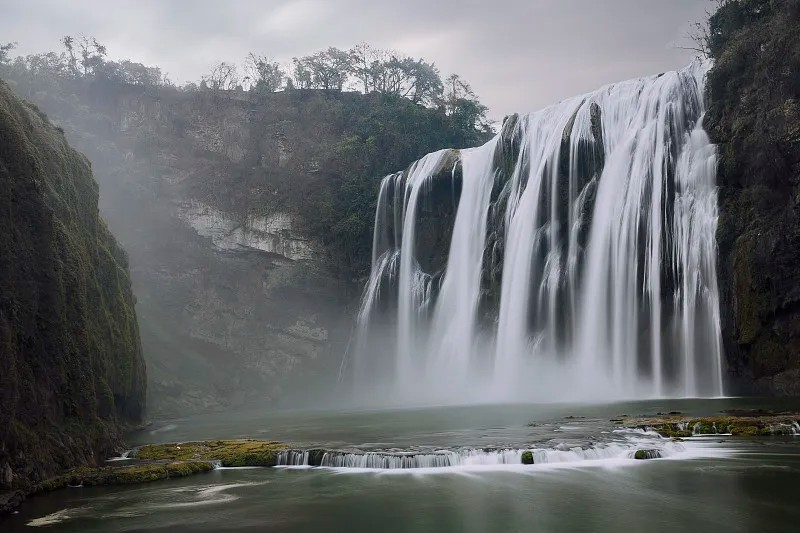Huangguoshu: (345, 64, 717, 399)
